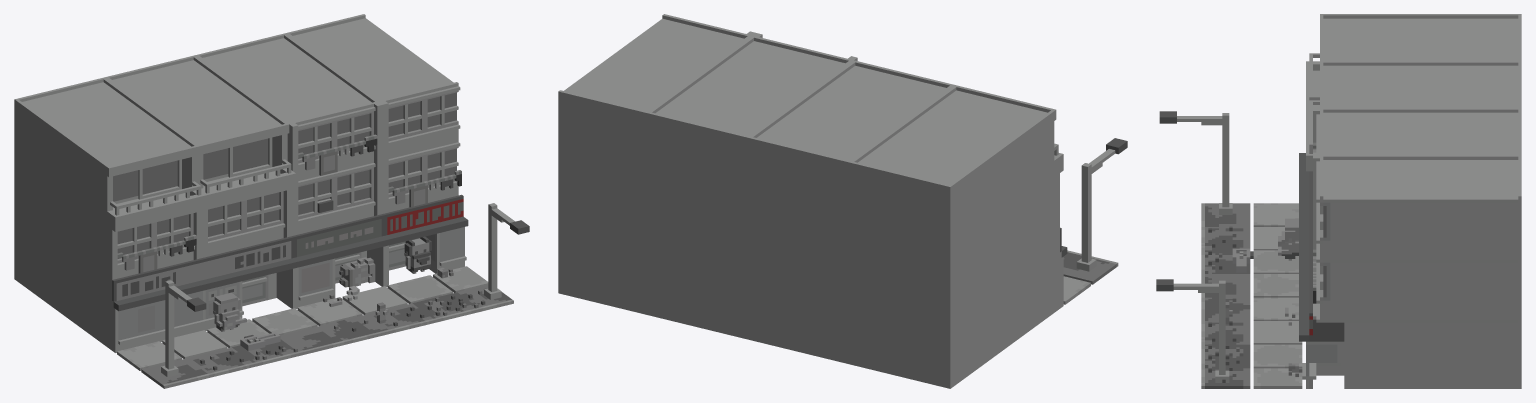
The model's file is scene_store11.obj.
The picture shows the model from 3 angles, left to right: view 1: azimuth 30°, elevation 25°; view 2: azimuth 150°, elevation 25°; view 3: azimuth 270°, elevation 25°; orthographic projection. The views are drawn at different scales.
Bounding box in the file's own units: 124 × 61 × 105.
